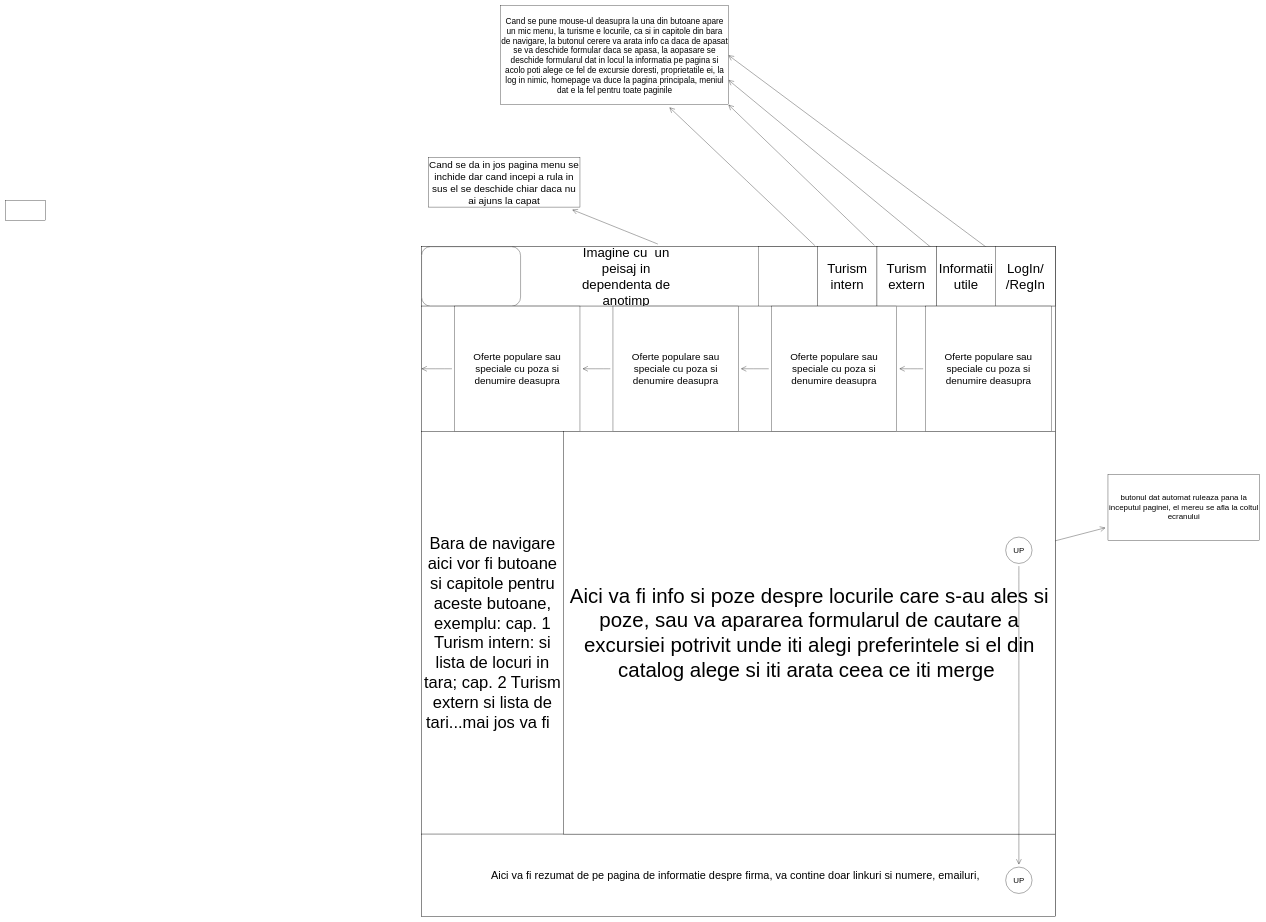
The diagram is 1266 pixels wide and 922 high, and some of its shapes have lost their labels. The shapes that lost their labels are listed below. From the top down, each one's centre as x and y in pixels, then its label:
At pixel 471 276: "Logo".
At pixel 788 276: "Home Page".
